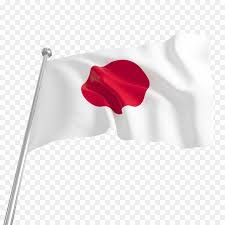Japanese Flag: (27, 33, 214, 156)
